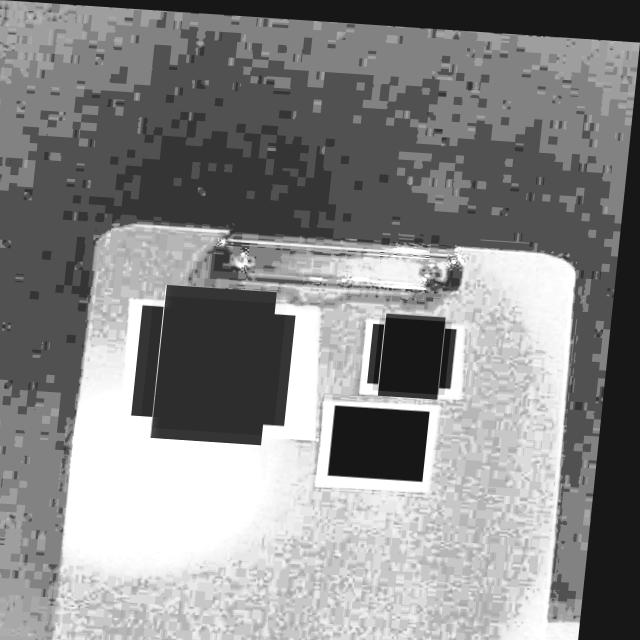qr_code: (149, 293, 293, 432), (337, 400, 438, 476), (380, 311, 458, 388)
